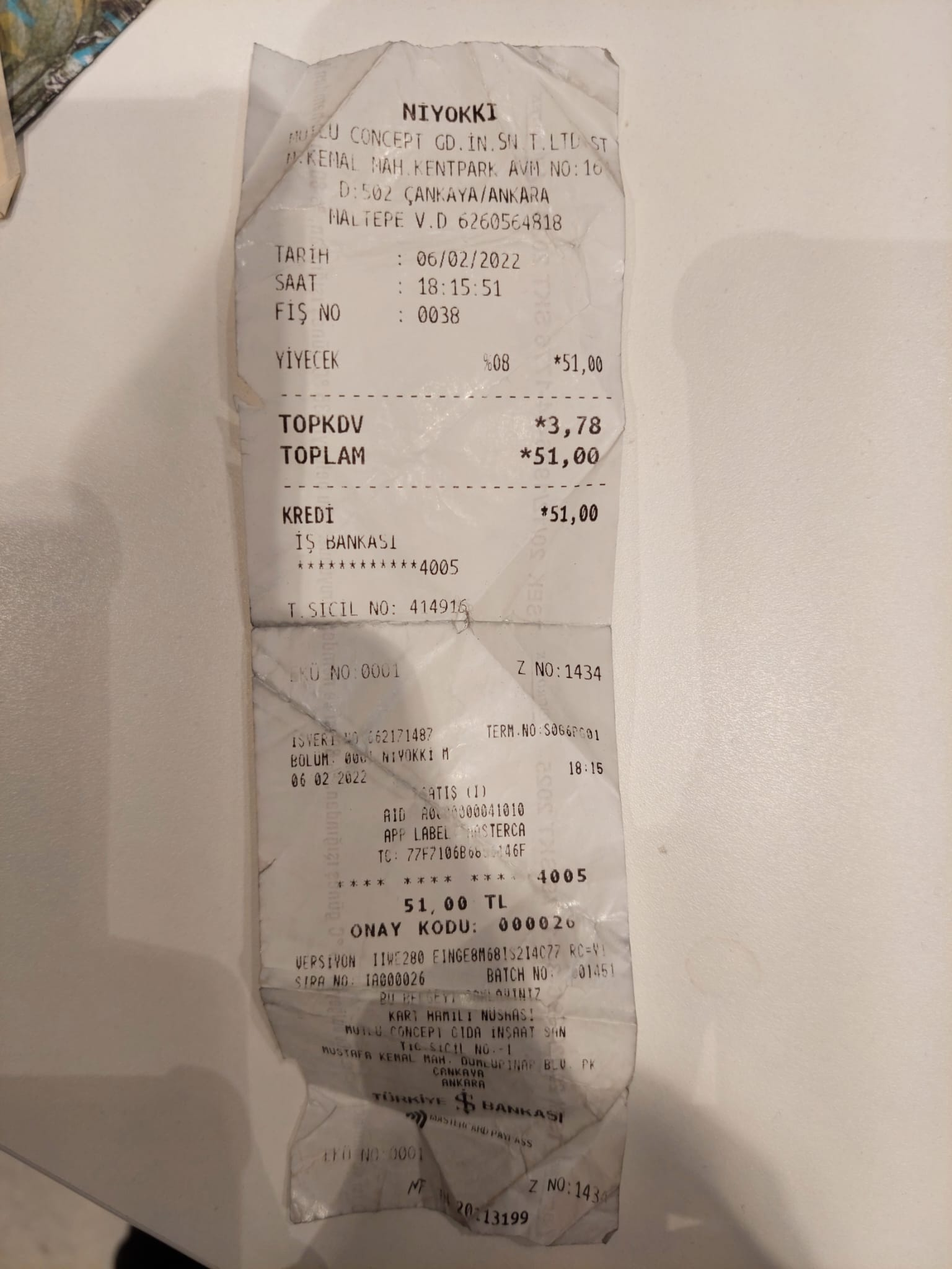date: (412, 244, 525, 275)
price: (531, 435, 605, 474)
workplace: (268, 95, 615, 208)
